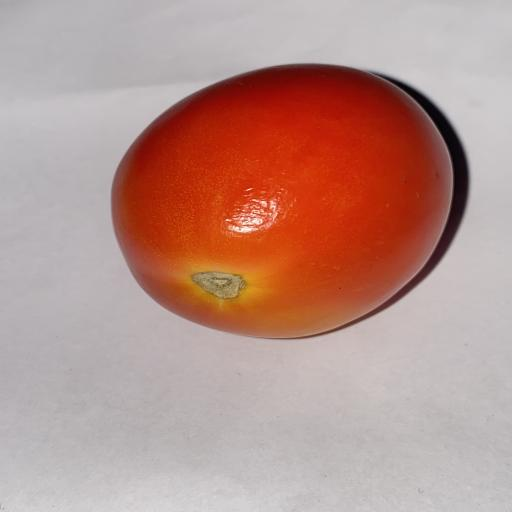overipe: (112, 65, 452, 338)
